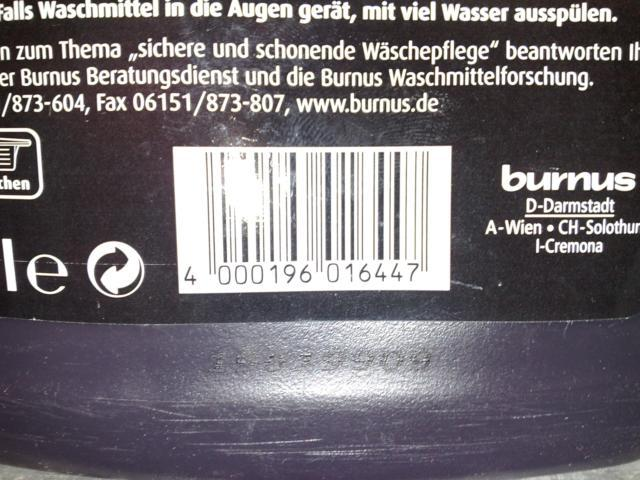Barkod: (203, 148, 429, 263)
